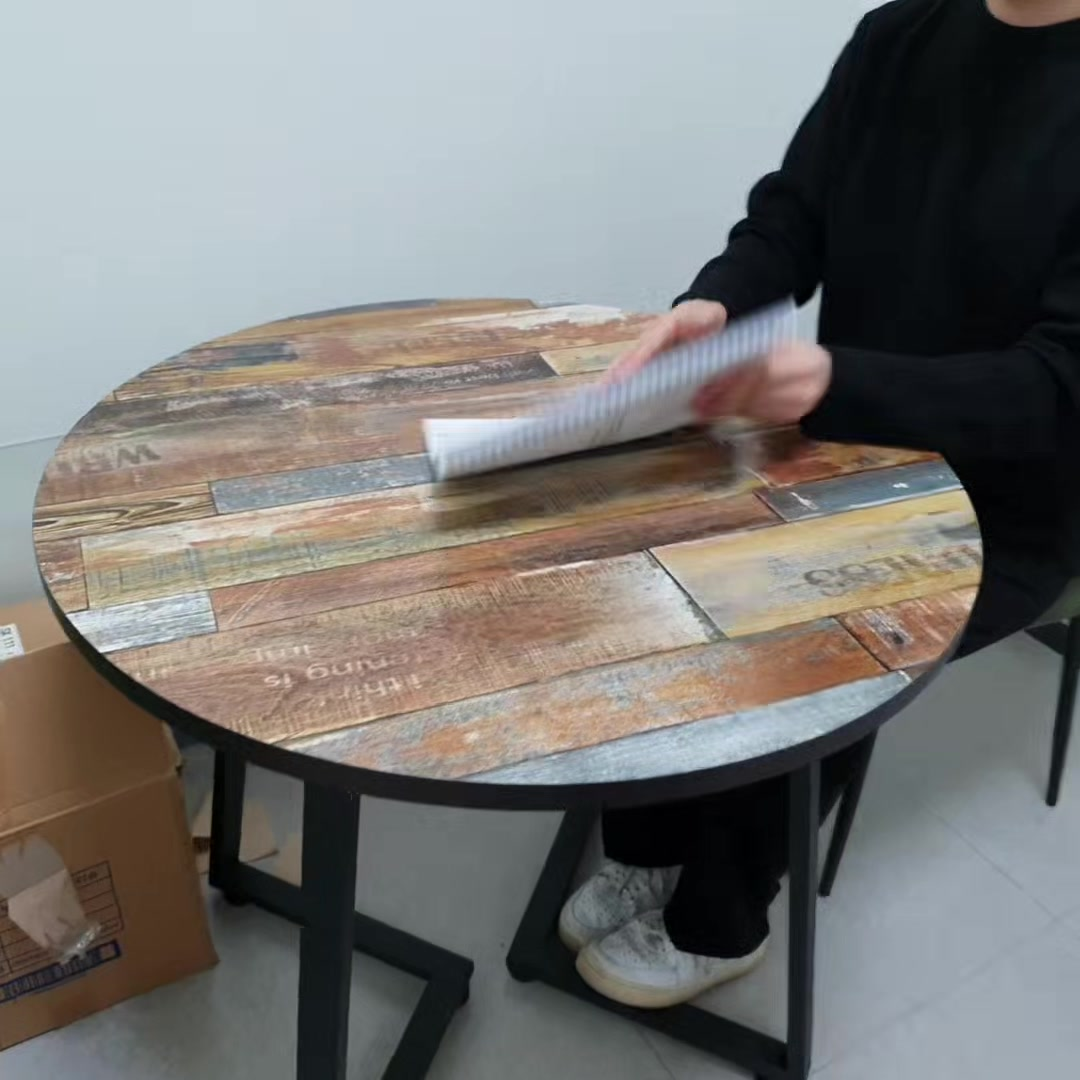book: (423, 306, 799, 480)
